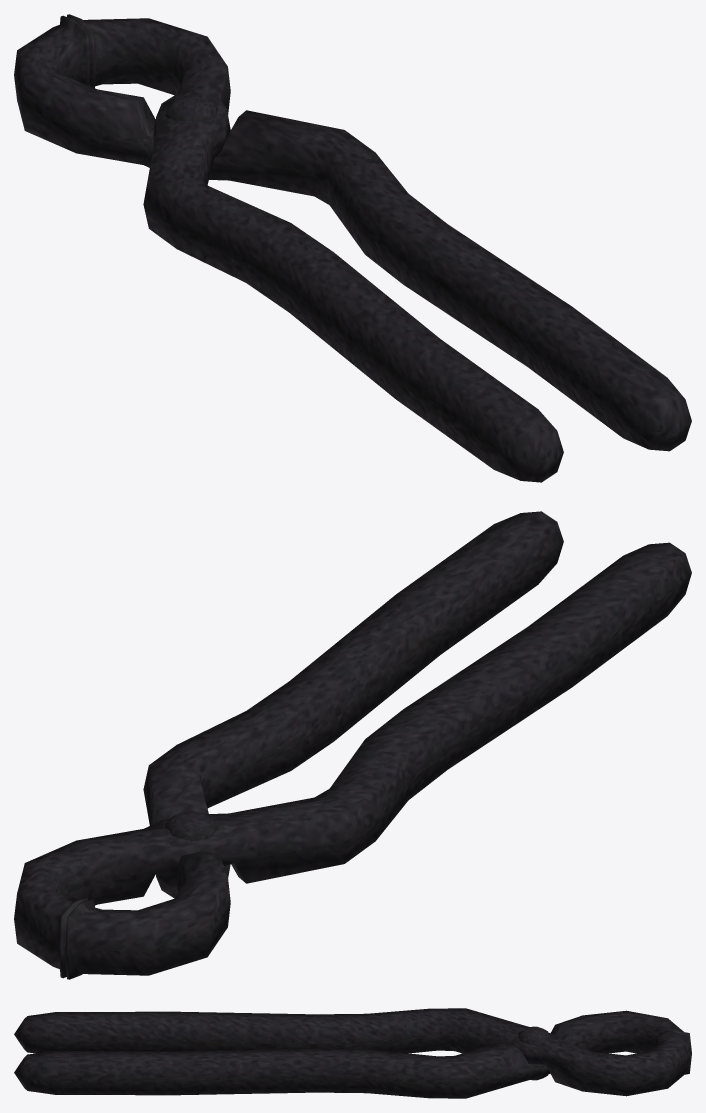
Rendered from tongs.glb.
3 views of the same model, one above another, from view 1: azimuth 30°, elevation 25°; view 2: azimuth 150°, elevation 25°; view 3: azimuth 270°, elevation 25° (orthographic). The views are drawn at different scales.
Visible parts, largest first — view 1: arm_b, arm_a, rivet; view 2: arm_a, arm_b, rivet; view 3: arm_b, arm_a, rivet.
Boxes of the visible parts, bbox=[...] form: arm_b: bbox=[14, 15, 691, 451]; arm_a: bbox=[67, 14, 563, 482]; rivet: bbox=[165, 95, 217, 122]; arm_a: bbox=[14, 542, 691, 978]; arm_b: bbox=[65, 511, 563, 979]; rivet: bbox=[165, 811, 217, 841]; arm_b: bbox=[14, 1010, 691, 1098]; arm_a: bbox=[14, 1008, 691, 1096]; rivet: bbox=[518, 1026, 549, 1080].
Size of the model in its own units: 0.7774 by 0.2886 by 3.62.
Materials: 1 (1 with a texture image).
